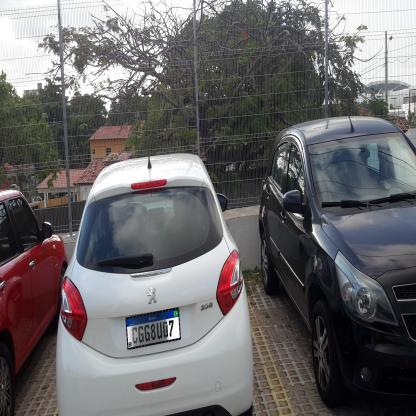PlacaM: (125, 307, 181, 350)
